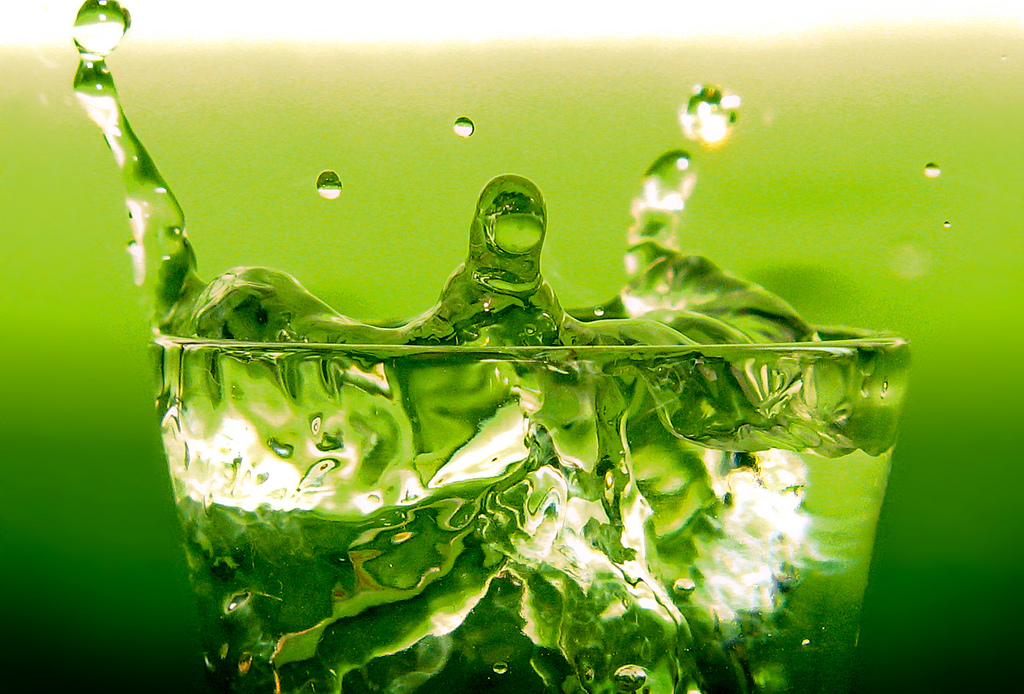glass of water: (96, 175, 840, 657)
